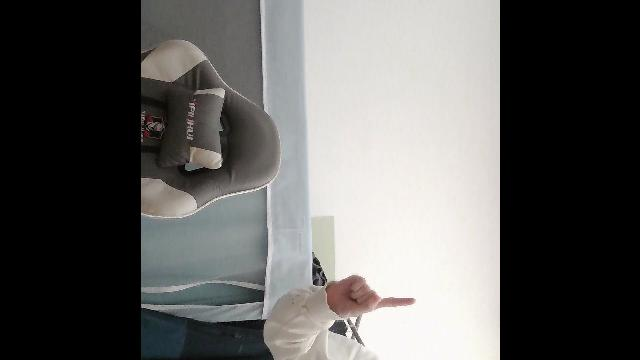one: (332, 272, 418, 320)
